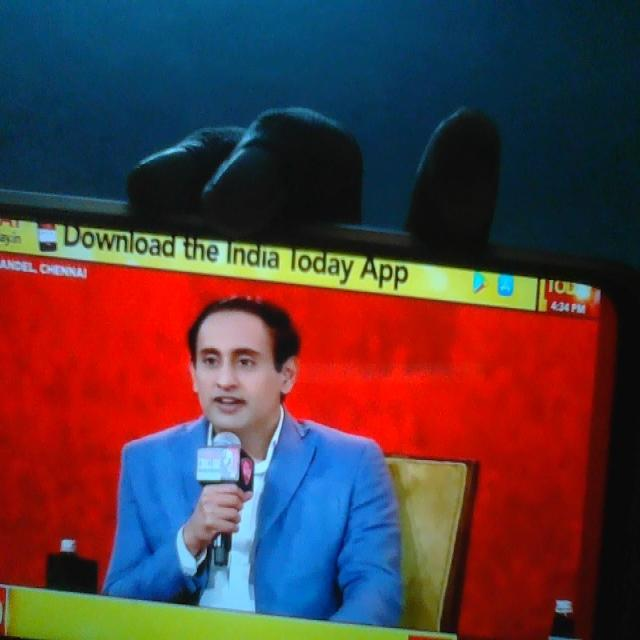fake: (192, 272, 288, 453)
